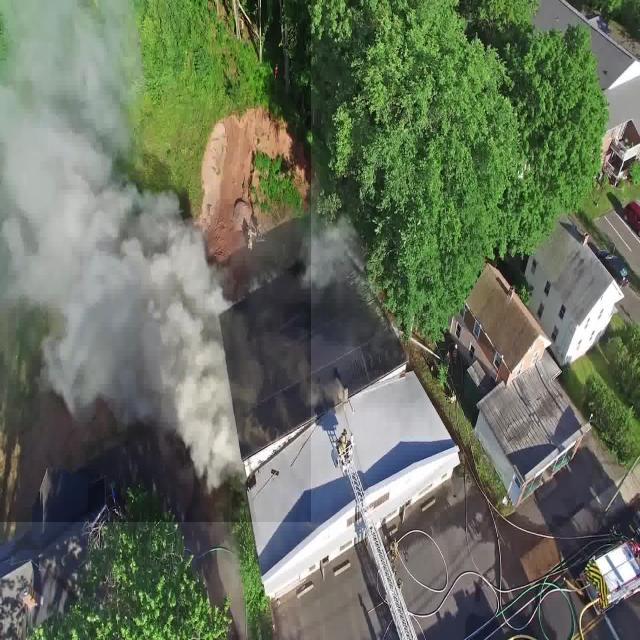Smoke: (0, 0, 311, 522)
